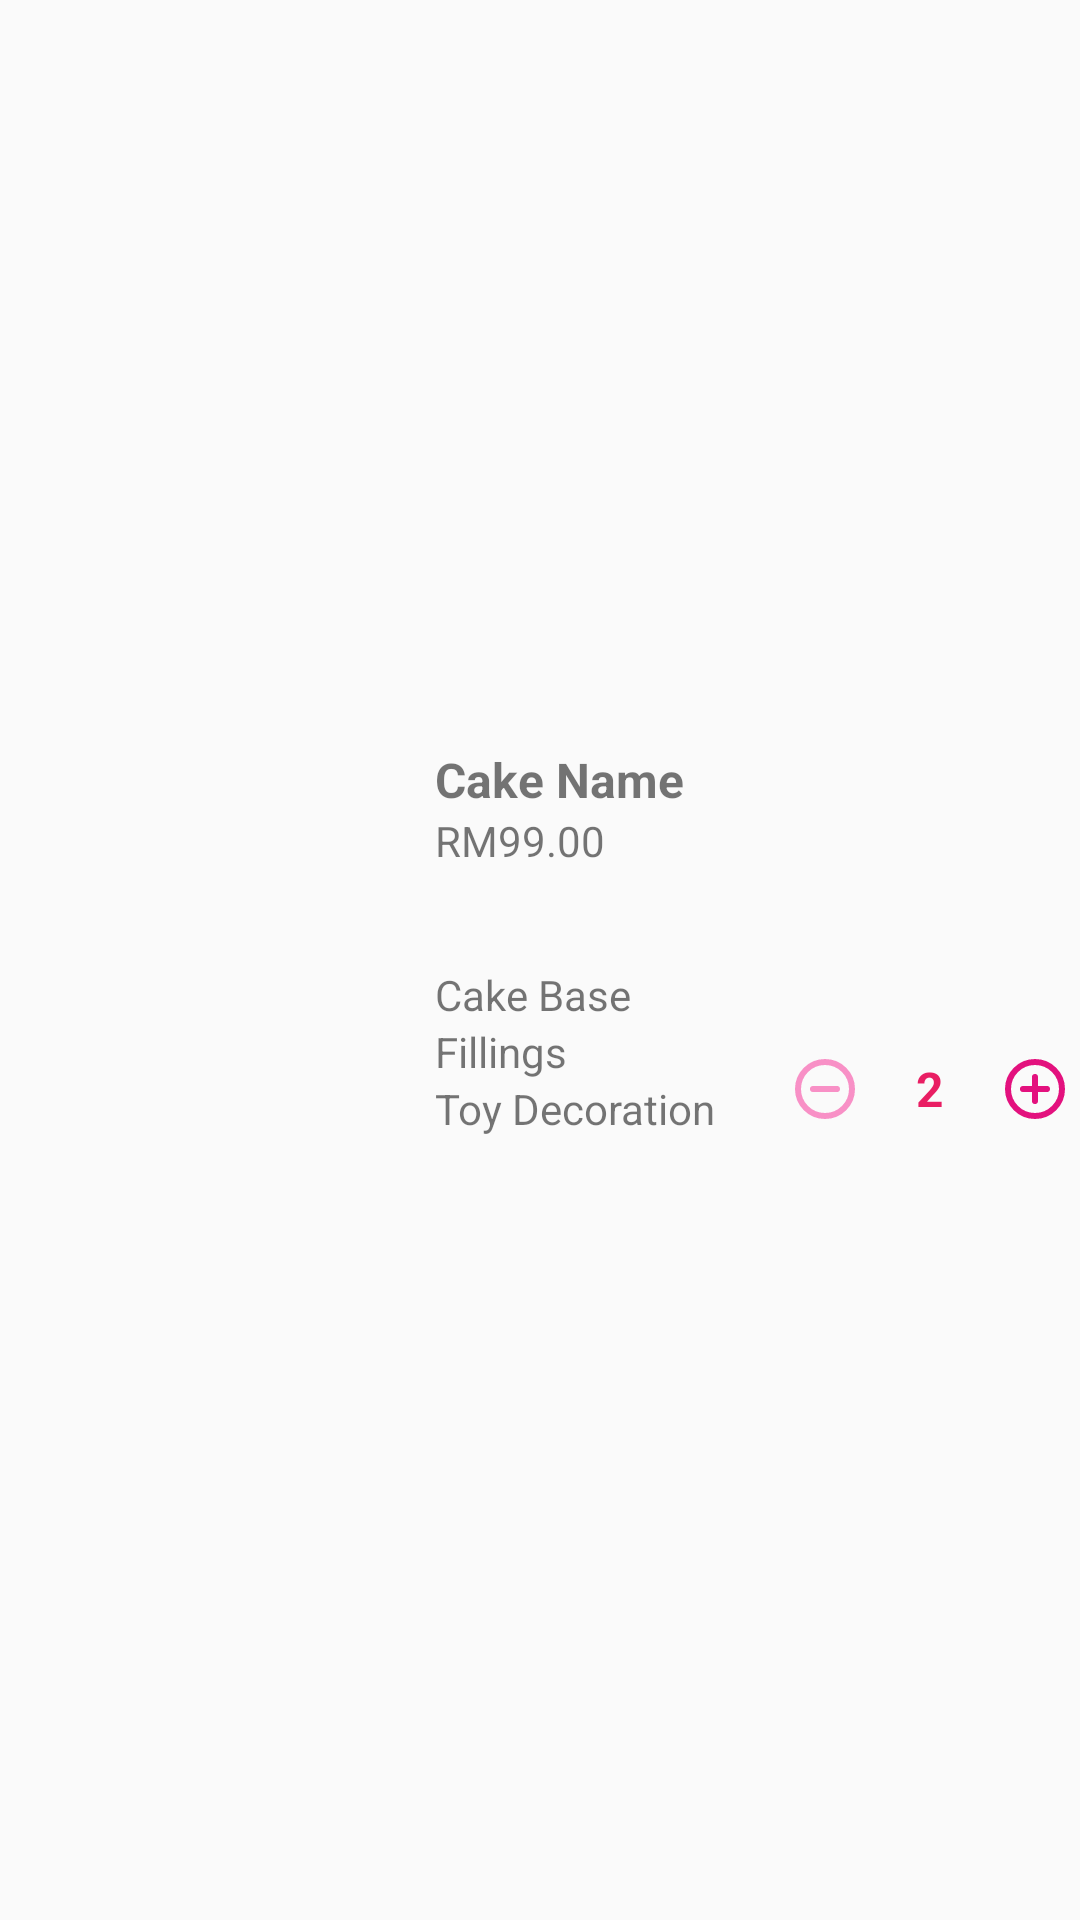

Icon click points for this 1080 × 1920 phone screenshot, format (x,y):
Decrease quantity: (825,1089)
Increase quantity: (1035,1089)
